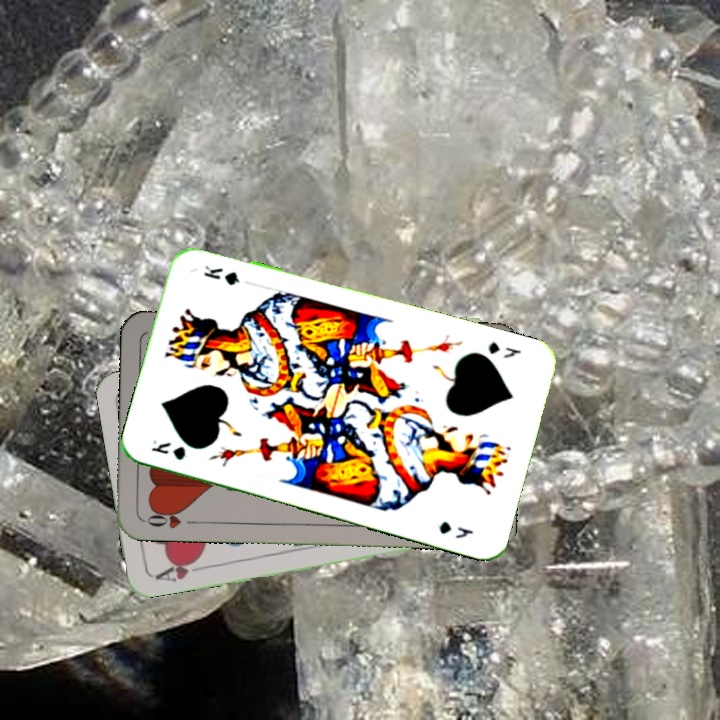GK: (147, 436, 188, 463), (484, 337, 524, 361)
HA: (151, 553, 209, 585)
HO: (140, 505, 200, 531)
